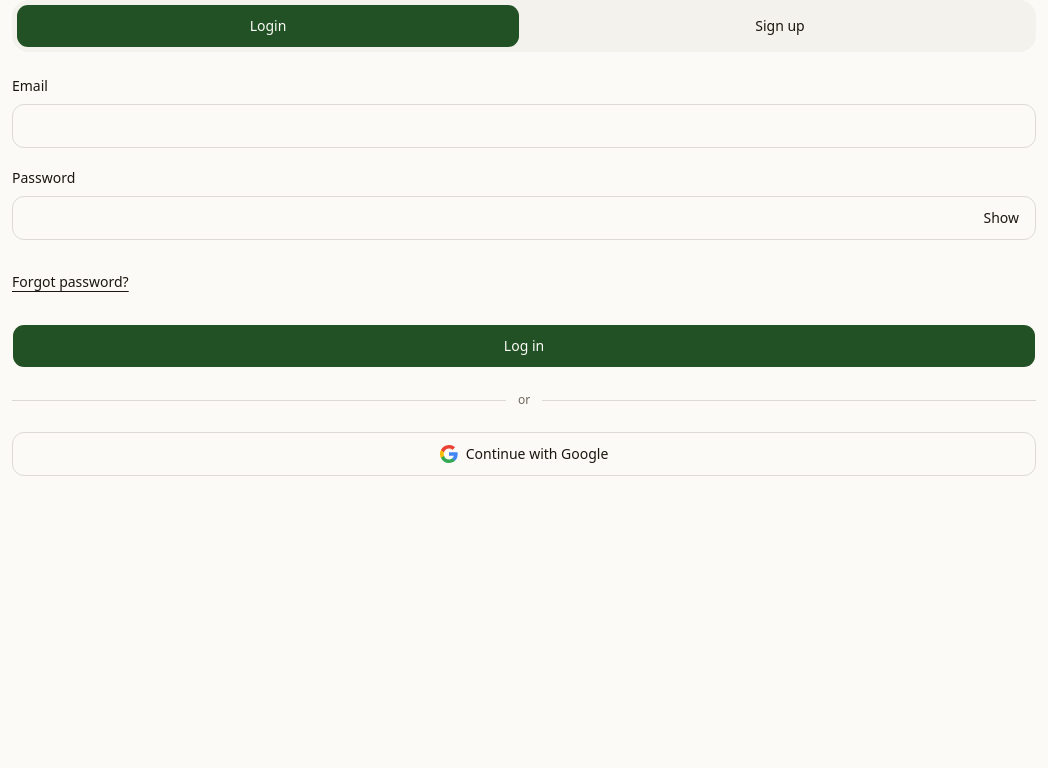
Test case: offers the forgot-password link in Login mode only
Step 1. Click the button "Sign up" → (780, 26), box [528, 4, 1032, 48]
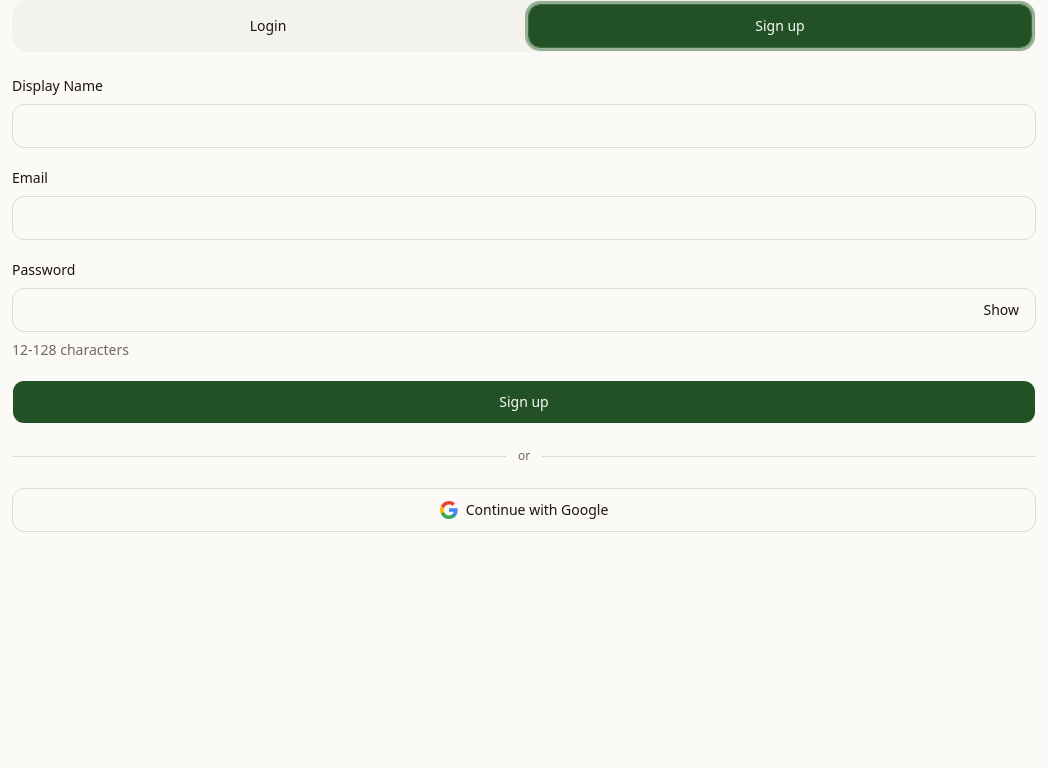
Expected: the link "Forgot password?" is gone
